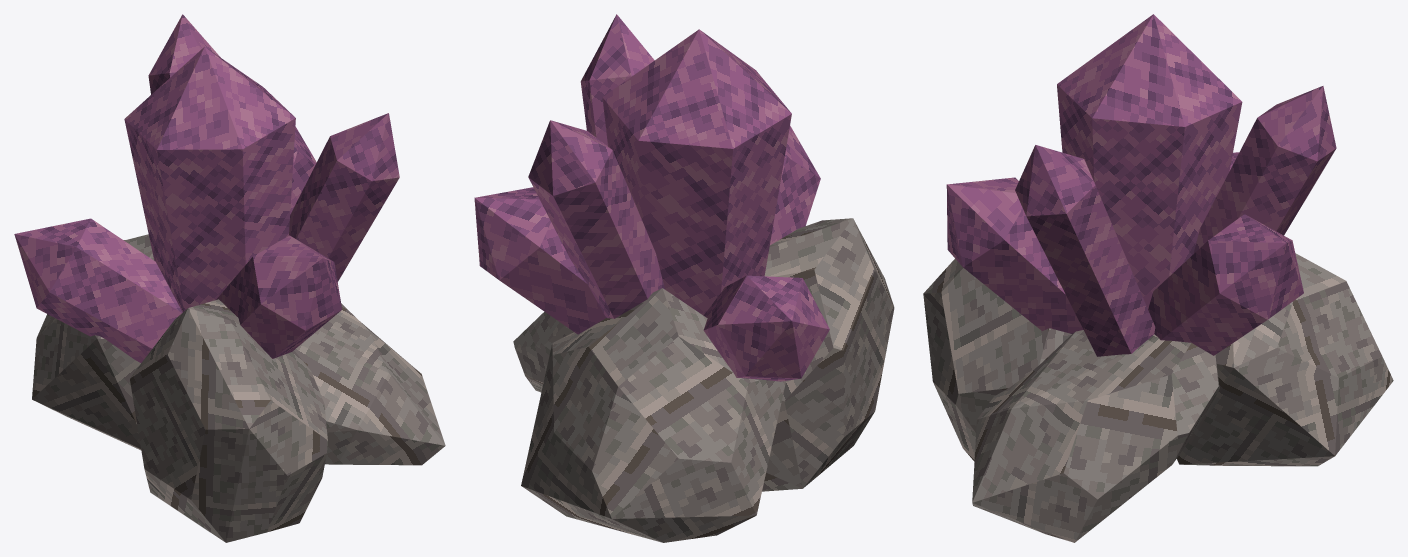
Rendered from neo_crystal.glb.
The picture shows the model from 3 angles, left to right: view 1: azimuth 30°, elevation 25°; view 2: azimuth 150°, elevation 25°; view 3: azimuth 270°, elevation 25°; orthographic projection. The views are drawn at different scales.
Visible parts, largest first — view 1: Icosphere; view 2: Icosphere; view 3: Icosphere.
Boxes of the visible parts, x1,y1,x2,y2 form: Icosphere: (14,14,445,542); Icosphere: (474,14,894,542); Icosphere: (923,14,1393,542).
Size of the model in its own units: 1.29 by 1.75 by 1.5.
Materials: 2 (2 with a texture image).
